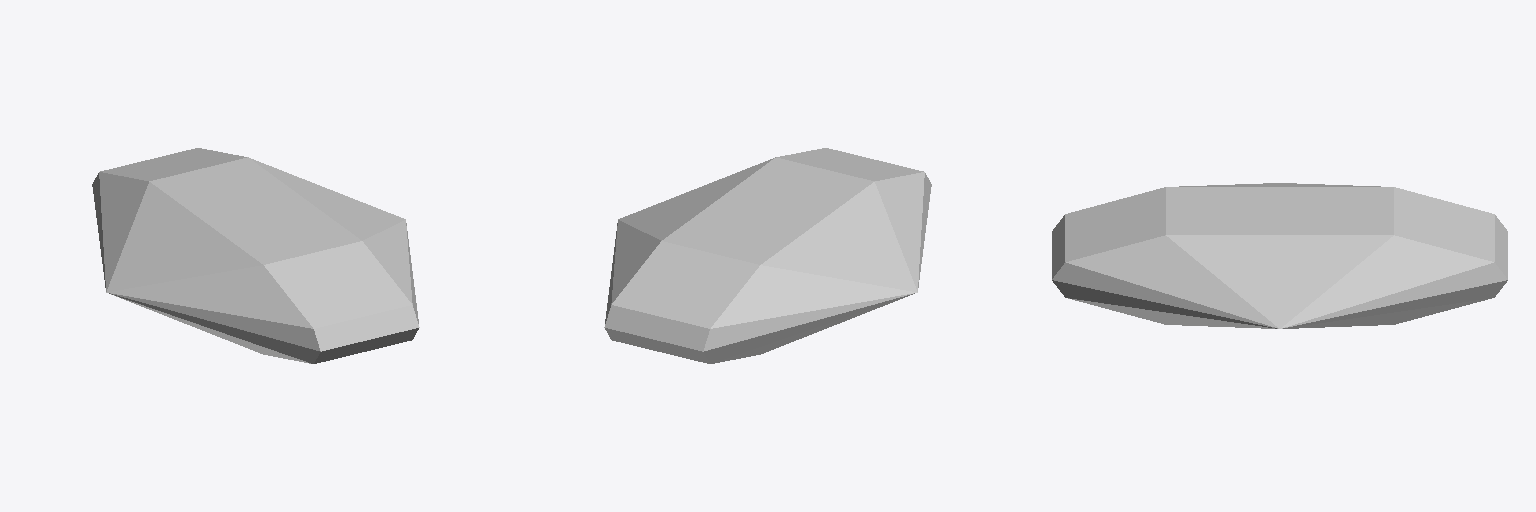
Rendered from ENVI_SciFi01.obj.
The picture shows the model from 3 angles: view 1: azimuth 30°, elevation 25°; view 2: azimuth 150°, elevation 25°; view 3: azimuth 270°, elevation 25°; orthographic projection.
Parts seen in each view (by area): view 1: ENVI_SciFi01; view 2: ENVI_SciFi01; view 3: ENVI_SciFi01.
Part boxes in pixels (bbox=[...]): ENVI_SciFi01: bbox=[92, 148, 419, 363]; ENVI_SciFi01: bbox=[604, 148, 931, 363]; ENVI_SciFi01: bbox=[1052, 183, 1507, 328].
Bounding box in the file's own units: 331 × 94.5 × 436.